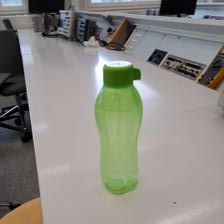bottle: (92, 58, 145, 197)
